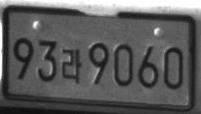0: (163, 45, 183, 90), (113, 43, 133, 87)
3: (37, 39, 57, 81)
6: (137, 44, 158, 89)
9: (12, 36, 34, 80), (88, 41, 108, 84)
라: (61, 48, 82, 83)
